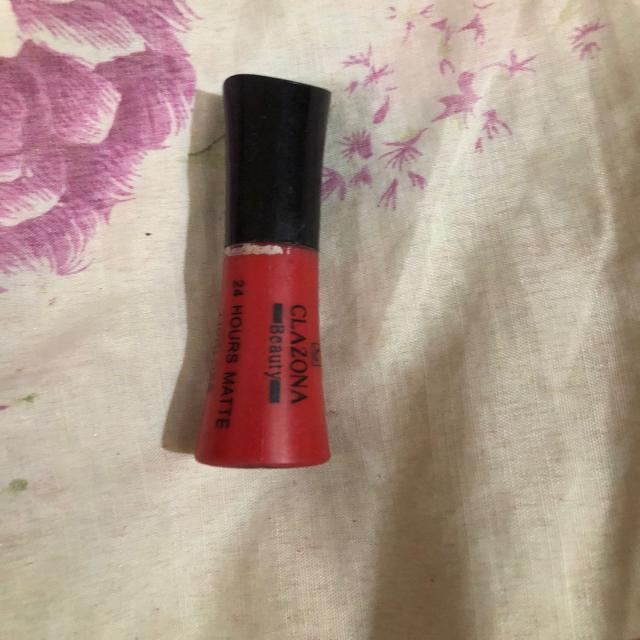lip stick: (180, 66, 389, 536)
